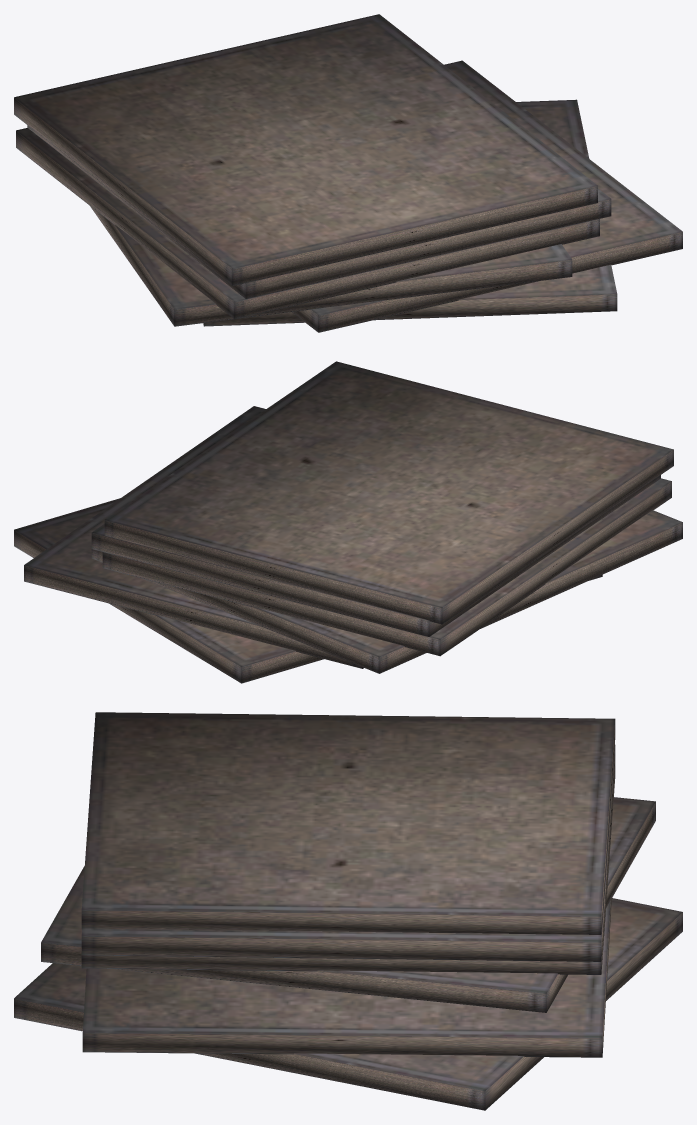
The model's file is Prop_Tiles_Pack.fbx.
3 views of the same model, one above another, from view 1: azimuth 30°, elevation 25°; view 2: azimuth 150°, elevation 25°; view 3: azimuth 270°, elevation 25° (orthographic). The views are drawn at different scales.
Visible parts, largest first — view 1: Cube_060; view 2: Cube_060; view 3: Cube_060.
Part boxes in pixels (bbox=[...]): Cube_060: bbox=[14, 14, 682, 332]; Cube_060: bbox=[14, 361, 682, 683]; Cube_060: bbox=[14, 712, 682, 1110].
Bounding box in the file's own units: 2.26 × 0.3958 × 2.11.
